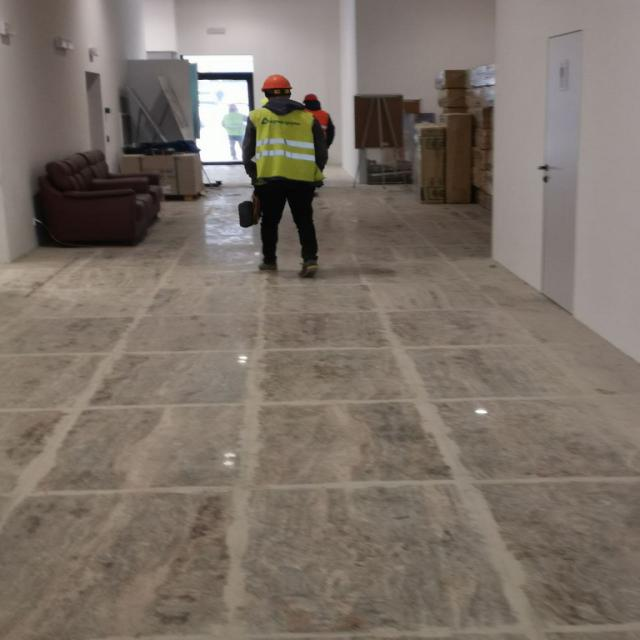Helmet: (261, 75, 295, 97), (304, 95, 322, 108)
Jacket: (256, 98, 317, 183), (226, 113, 246, 138)
